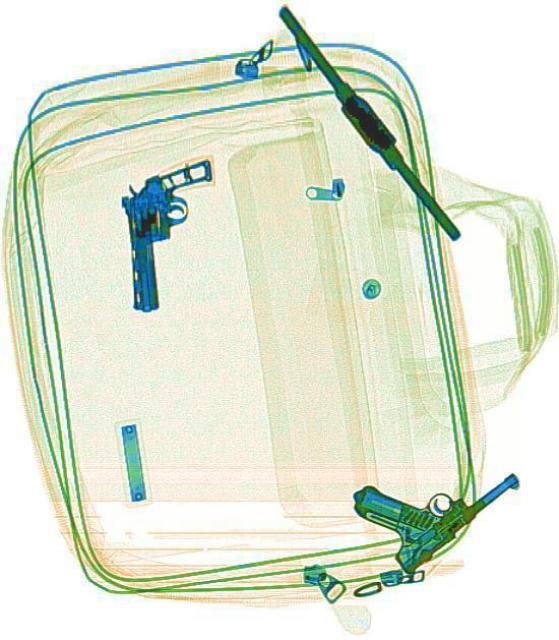Gun: (345, 434, 534, 582), (115, 156, 223, 314)
